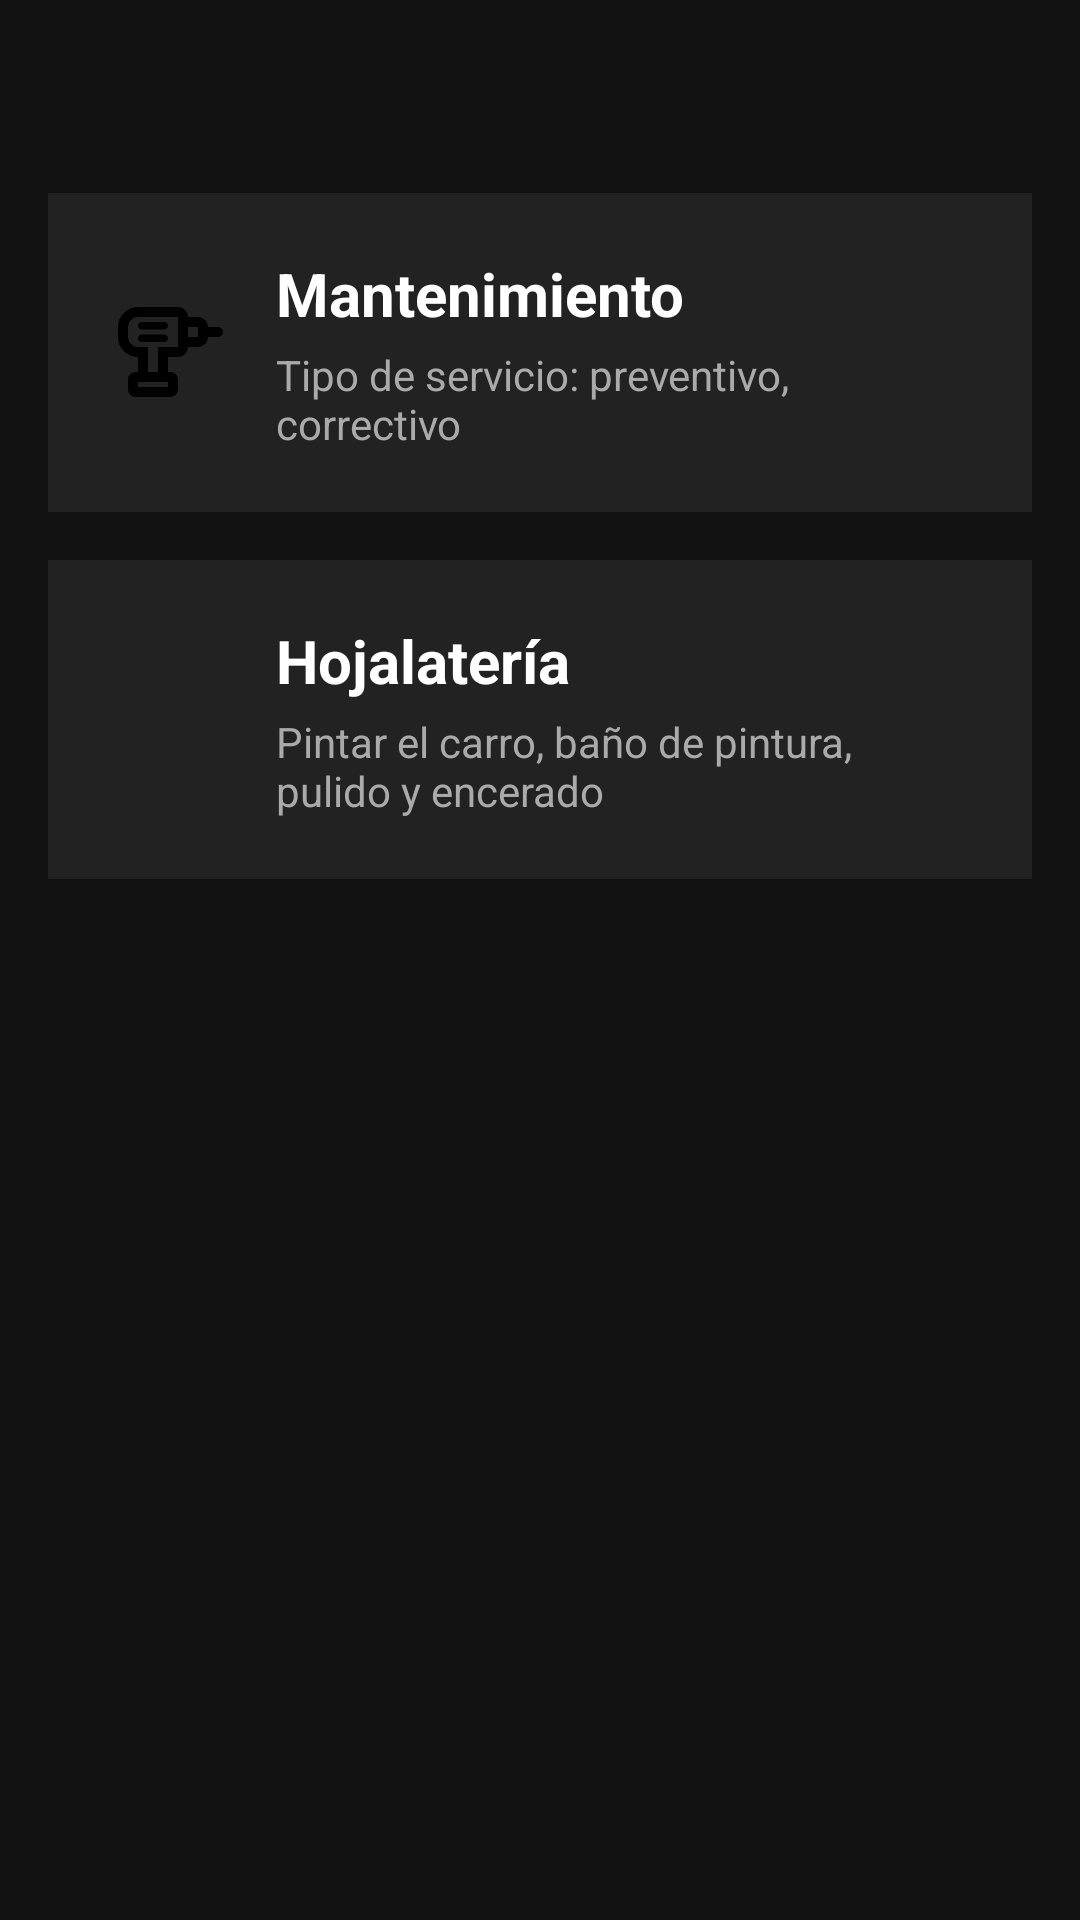

Screen size 1080w x 1920h. Icon name, then its box in pixels as (x1, y1, x2, y2):
tools power drill: (118, 307, 223, 397)
